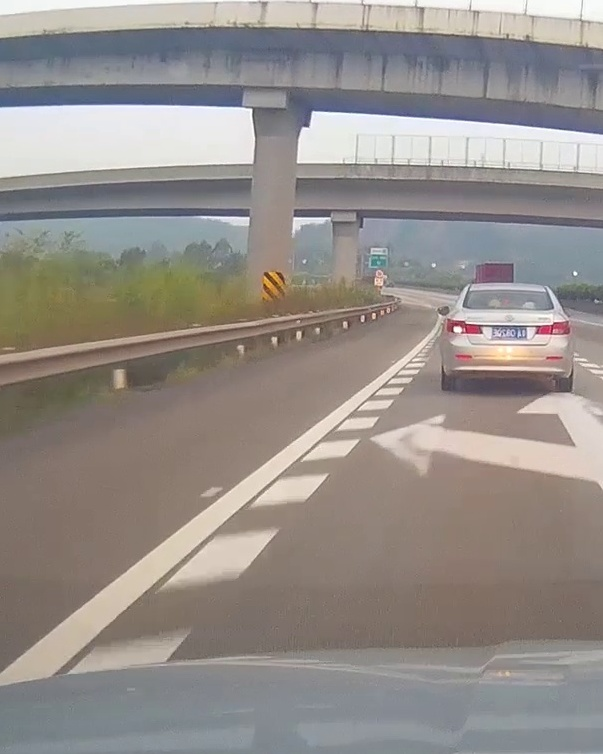L_light: (446, 318, 484, 335)
R_light: (535, 321, 571, 335)
T_light: (497, 306, 522, 309)
day-left: (438, 283, 574, 391)
